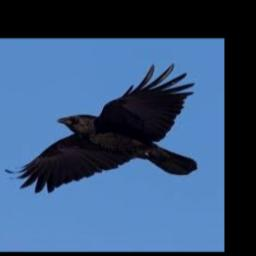Crow: (5, 63, 198, 193)
